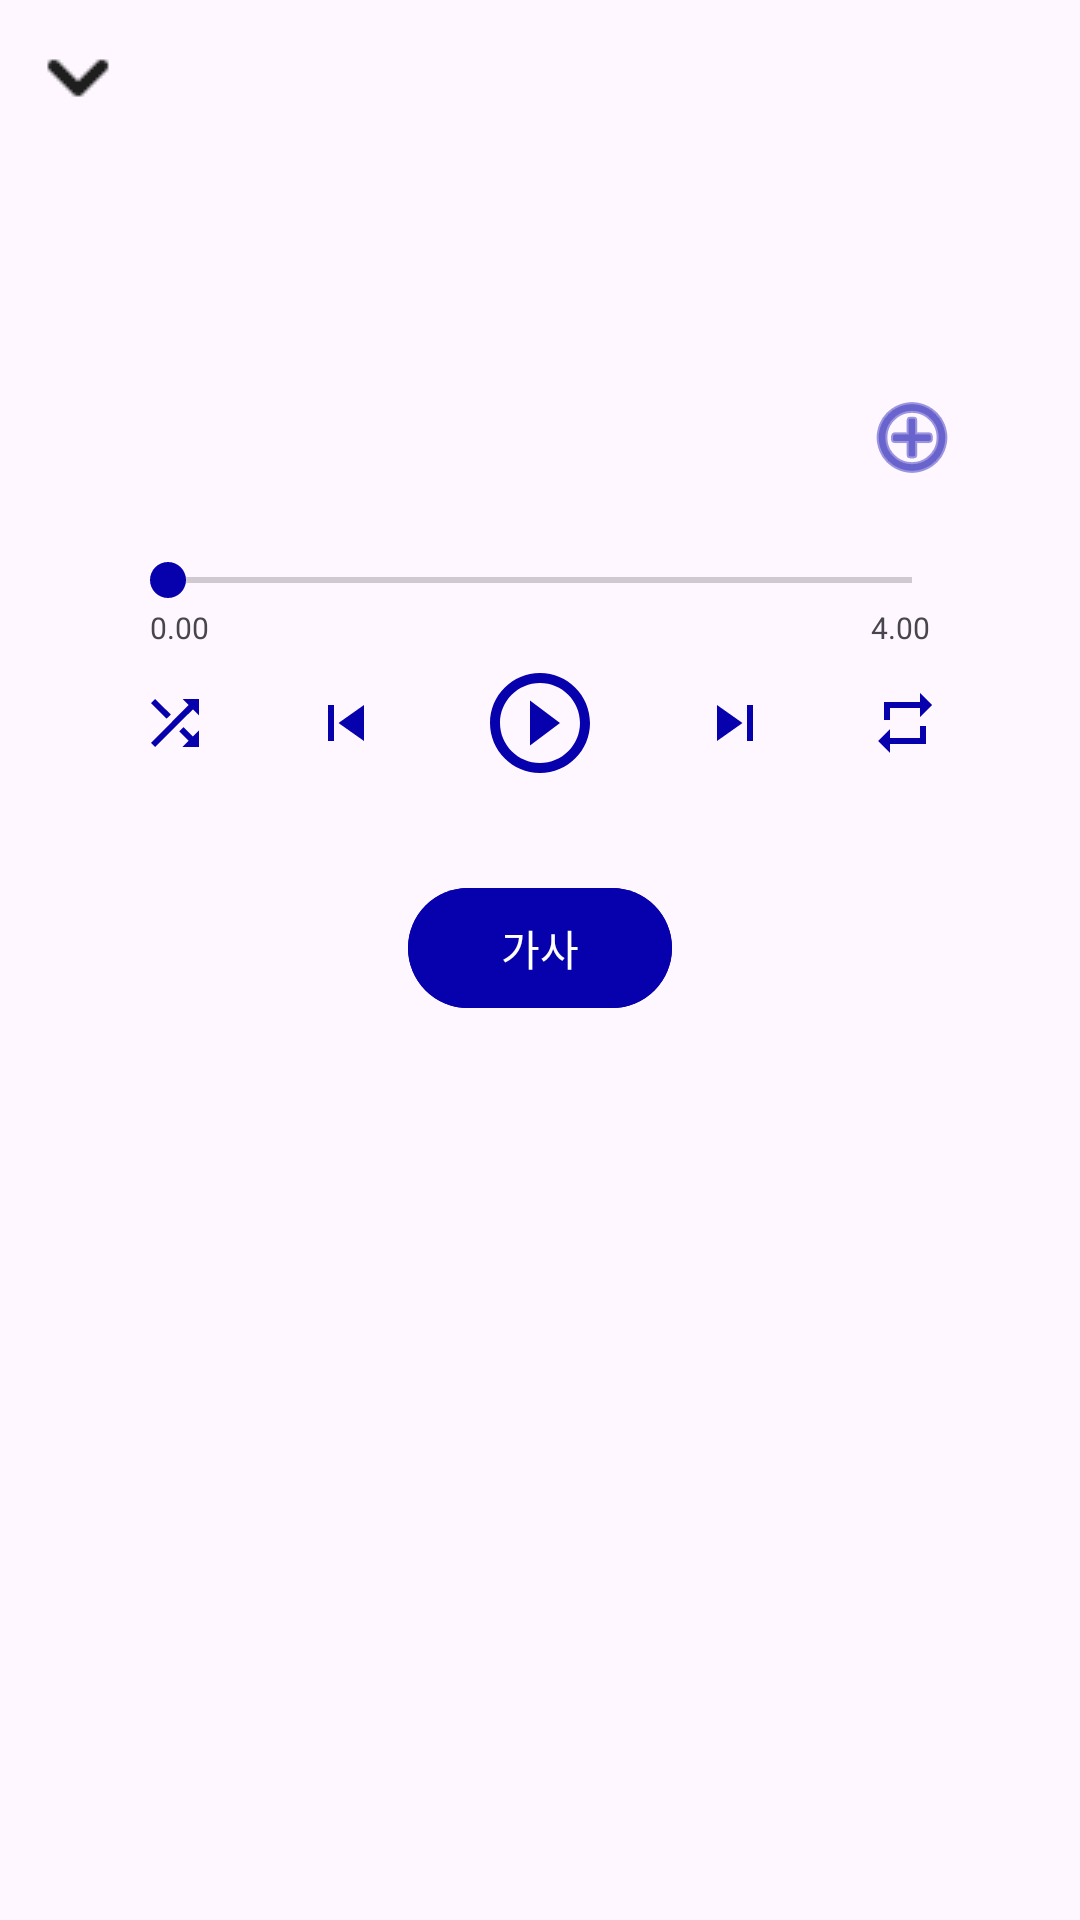

Where icons sit on this 1080 x 1920 app screen, as [left=x1, top=y1, right=x2, bottom=y2]:
add: [left=876, top=402, right=948, bottom=473]
chevron down: [left=47, top=59, right=109, bottom=97]
play circle: [left=490, top=673, right=590, bottom=773]
repeat: [left=878, top=693, right=932, bottom=753]
shuffle: [left=151, top=699, right=199, bottom=747]
skip next: [left=717, top=705, right=753, bottom=741]
skip previous: [left=328, top=705, right=364, bottom=741]
